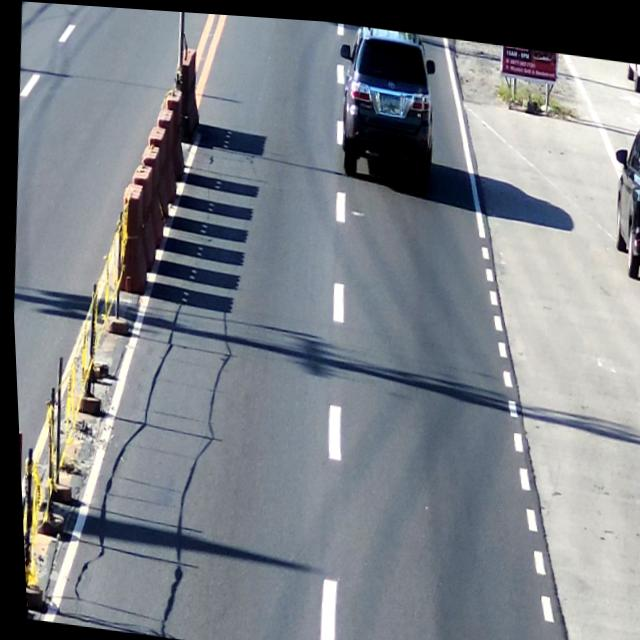License-Plate: (333, 19, 443, 190), (373, 82, 405, 111)
